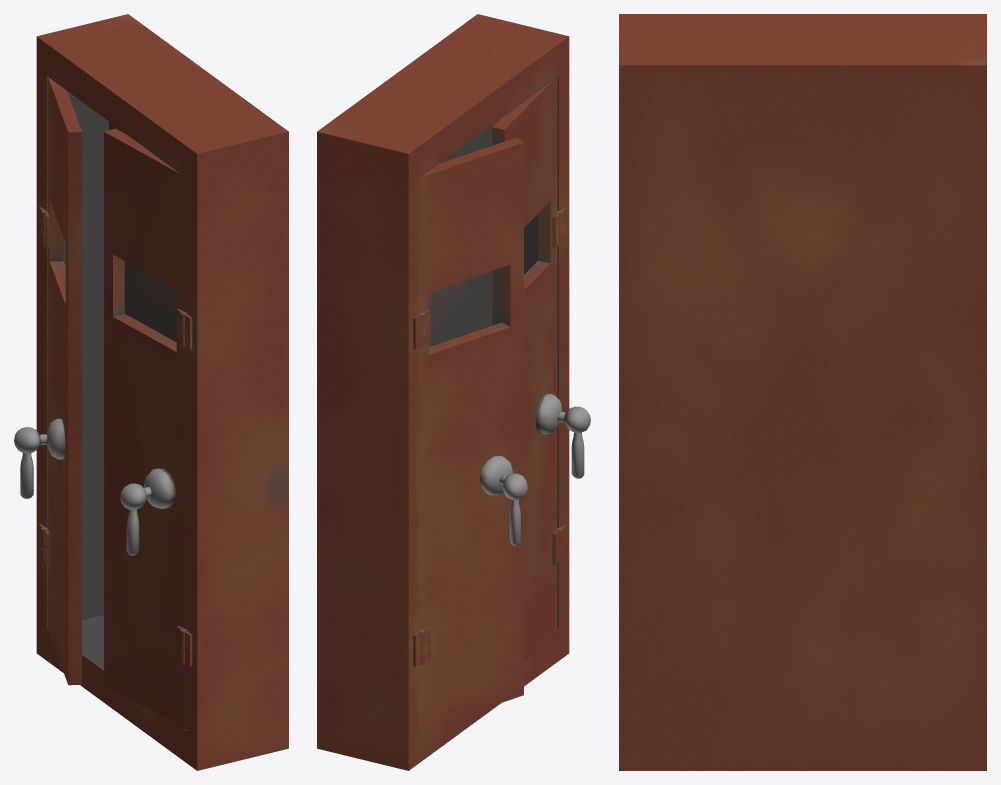
File: SM_Ironbox.fbx
3 views of the same model, side by side, from view 1: azimuth 30°, elevation 25°; view 2: azimuth 150°, elevation 25°; view 3: azimuth 270°, elevation 25° (orthographic). The views are drawn at different scales.
Visible parts, largest first — view 1: SM_Ironbox; view 2: SM_Ironbox; view 3: SM_Ironbox.
Boxes of the visible parts, <box> form: SM_Ironbox: <box>14,14,288,770</box>; SM_Ironbox: <box>317,14,590,770</box>; SM_Ironbox: <box>619,14,986,770</box>.
Bounding box in the file's own units: 31.59 × 54.63 × 116.
Materials: 1 (1 with a texture image).
